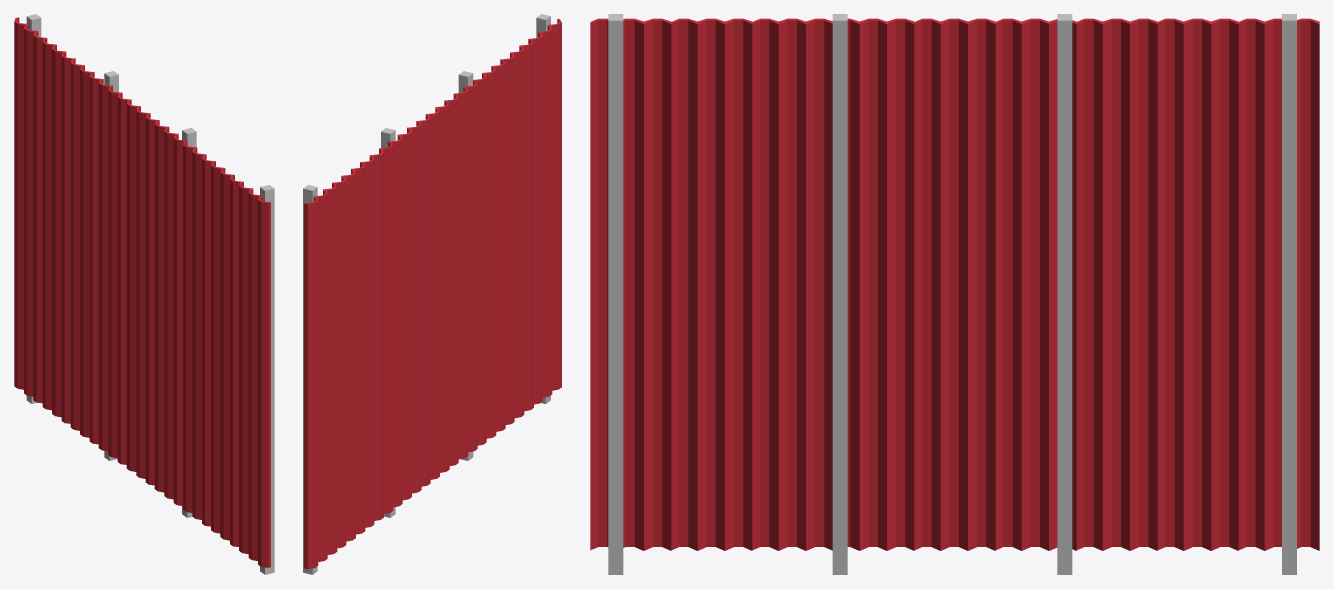
The model's file is Fence.fbx.
3 views of the same model, side by side, from view 1: azimuth 30°, elevation 25°; view 2: azimuth 150°, elevation 25°; view 3: azimuth 270°, elevation 25° (orthographic). The views are drawn at different scales.
Visible parts, largest first — view 1: Fencr, Cube; view 2: Fencr, Cube; view 3: Fencr, Cube.
Boxes of the visible parts, x1,y1,x2,y2 form: Fencr: [14, 17, 270, 567]; Cube: [26, 14, 274, 574]; Fencr: [304, 18, 561, 569]; Cube: [303, 14, 550, 574]; Fencr: [590, 18, 1319, 550]; Cube: [608, 14, 1296, 574].
Size of the model in its own units: 14.06 by 307 by 366.
